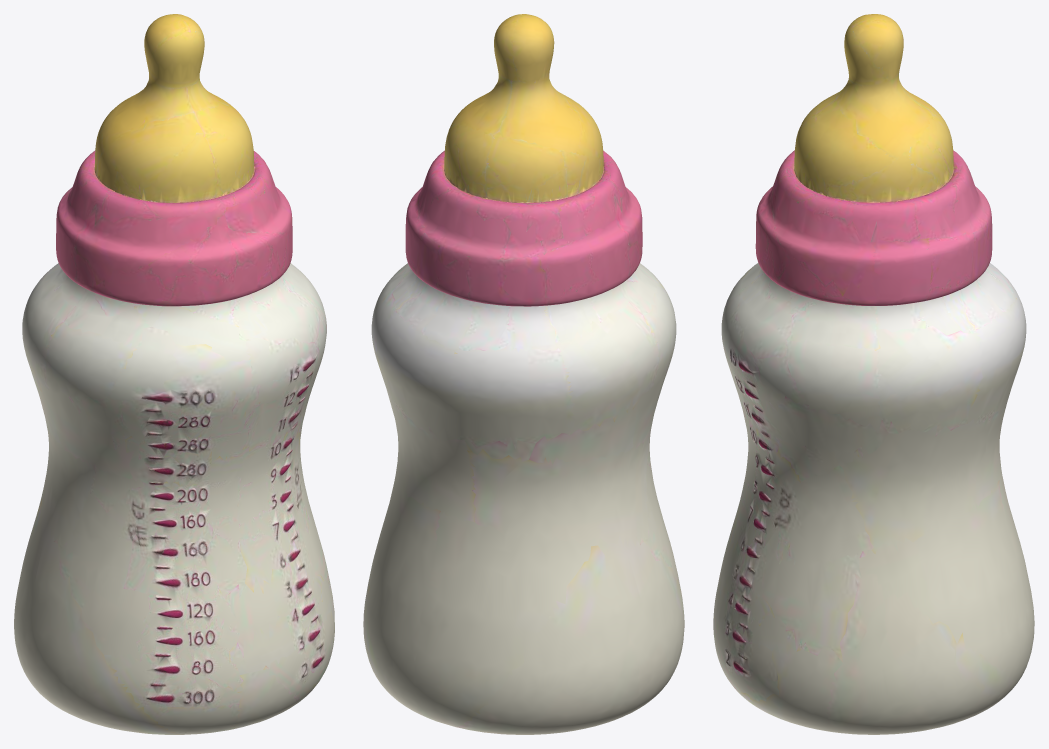
3 views of the same model, side by side, from view 1: azimuth 30°, elevation 25°; view 2: azimuth 150°, elevation 25°; view 3: azimuth 270°, elevation 25° (orthographic).
Size of the model in its own units: 0.8317 by 1.9 by 0.8319.
Materials: 1 (1 with a texture image).
